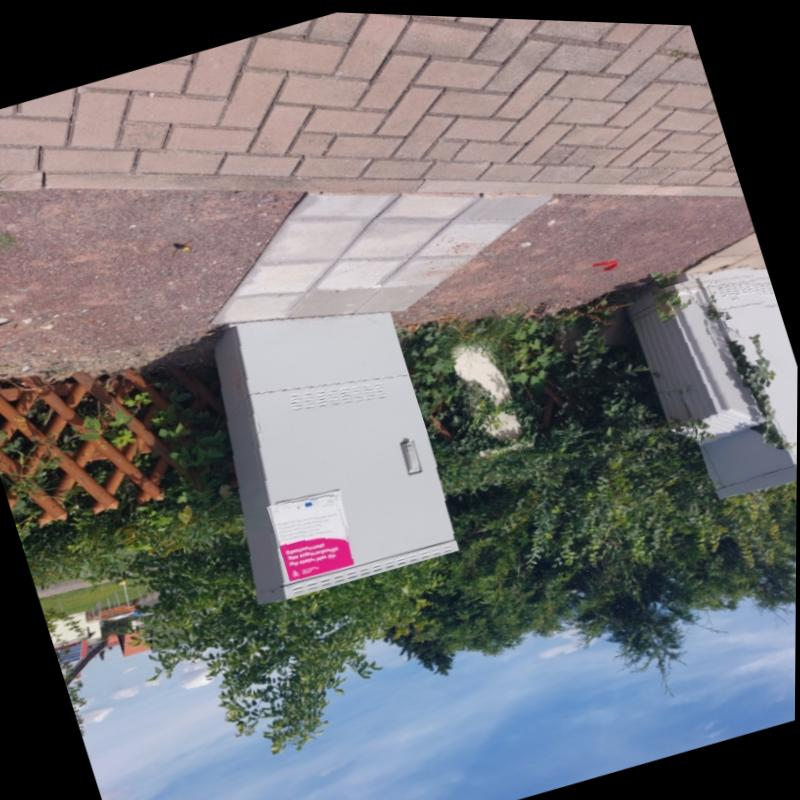NT-Gehause: (216, 309, 458, 602), (694, 259, 798, 493)
Steaker: (273, 488, 355, 578)
